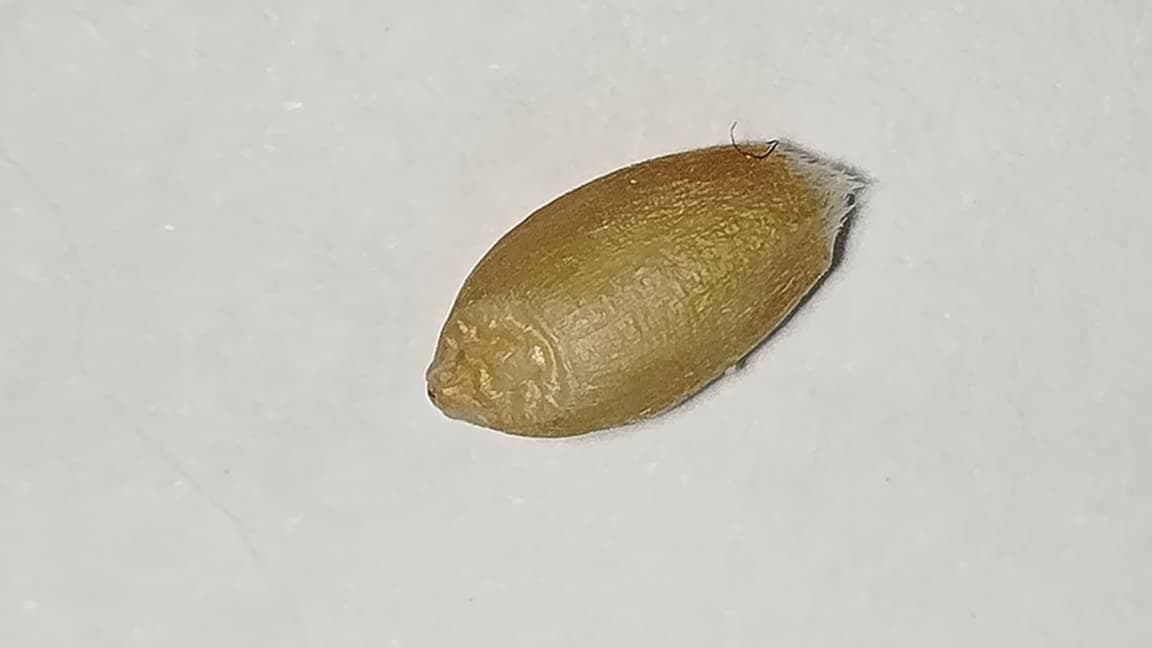healthy: (427, 141, 866, 434)
